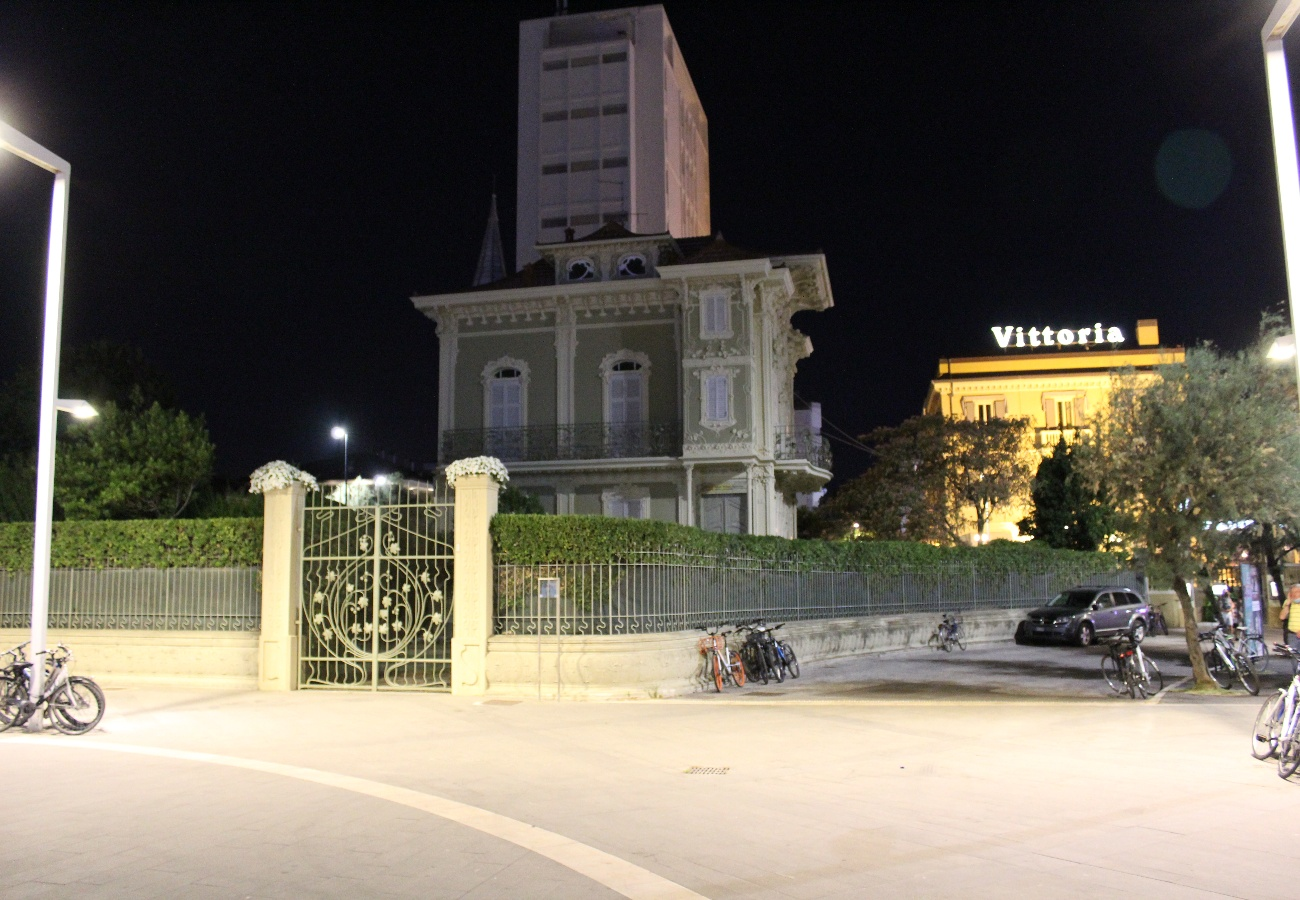Villino Ruggeri: (411, 195, 838, 616)
